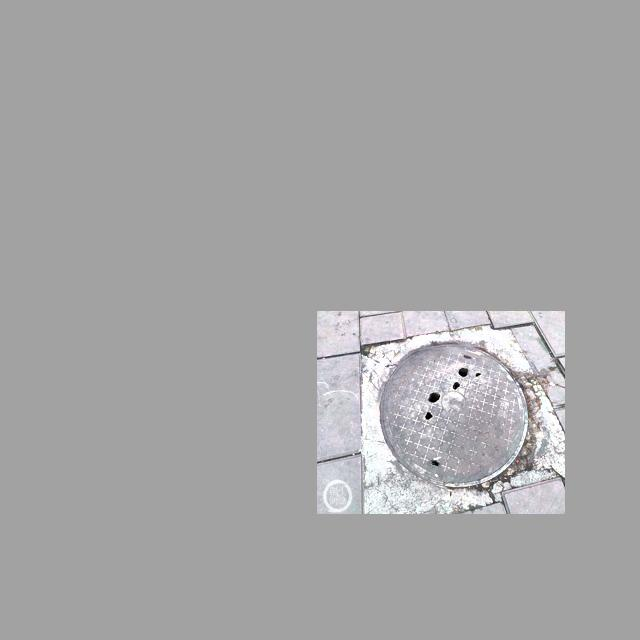circle: (355, 322, 560, 509)
